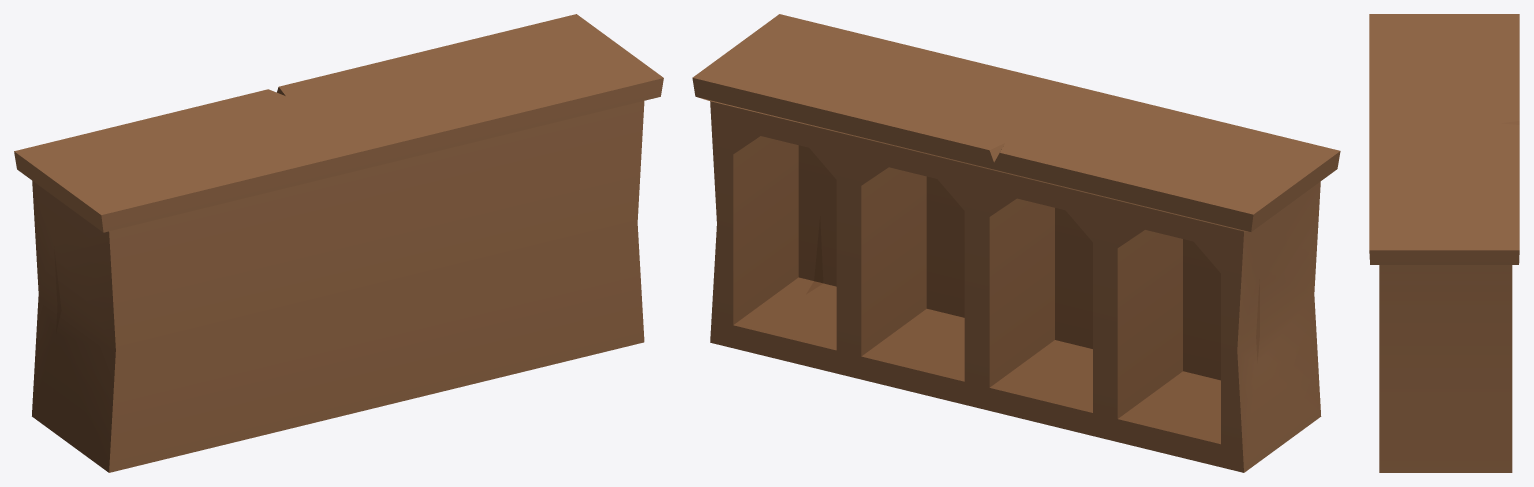
Rendered from ShelfUnit1.fbx.
3 renders of one model, left to right at view 1: azimuth 30°, elevation 25°; view 2: azimuth 150°, elevation 25°; view 3: azimuth 270°, elevation 25°, orthographic. The views are drawn at different scales.
Visible parts, largest first — view 1: ShelfUnit1; view 2: ShelfUnit1; view 3: ShelfUnit1.
Boxes of the visible parts, bbox=[...] form: ShelfUnit1: bbox=[14, 14, 663, 472]; ShelfUnit1: bbox=[692, 14, 1340, 472]; ShelfUnit1: bbox=[1369, 14, 1519, 472].
Size of the model in its own units: 105 by 47.37 by 28.26.
